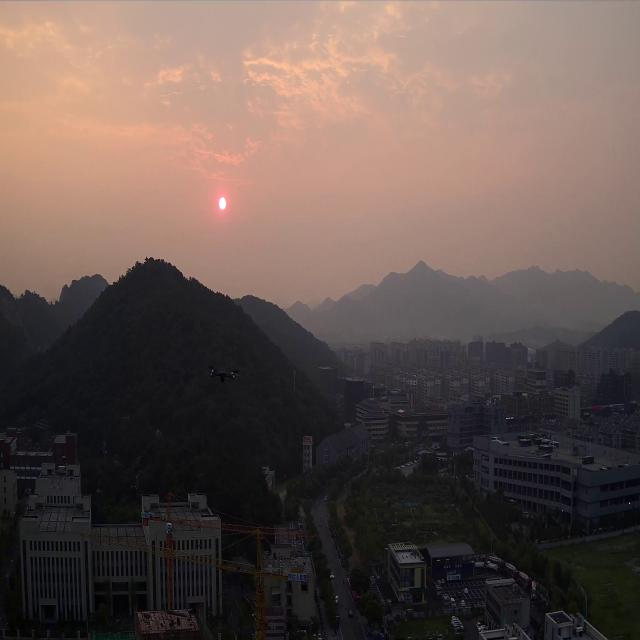UAV: (204, 364, 241, 383)
